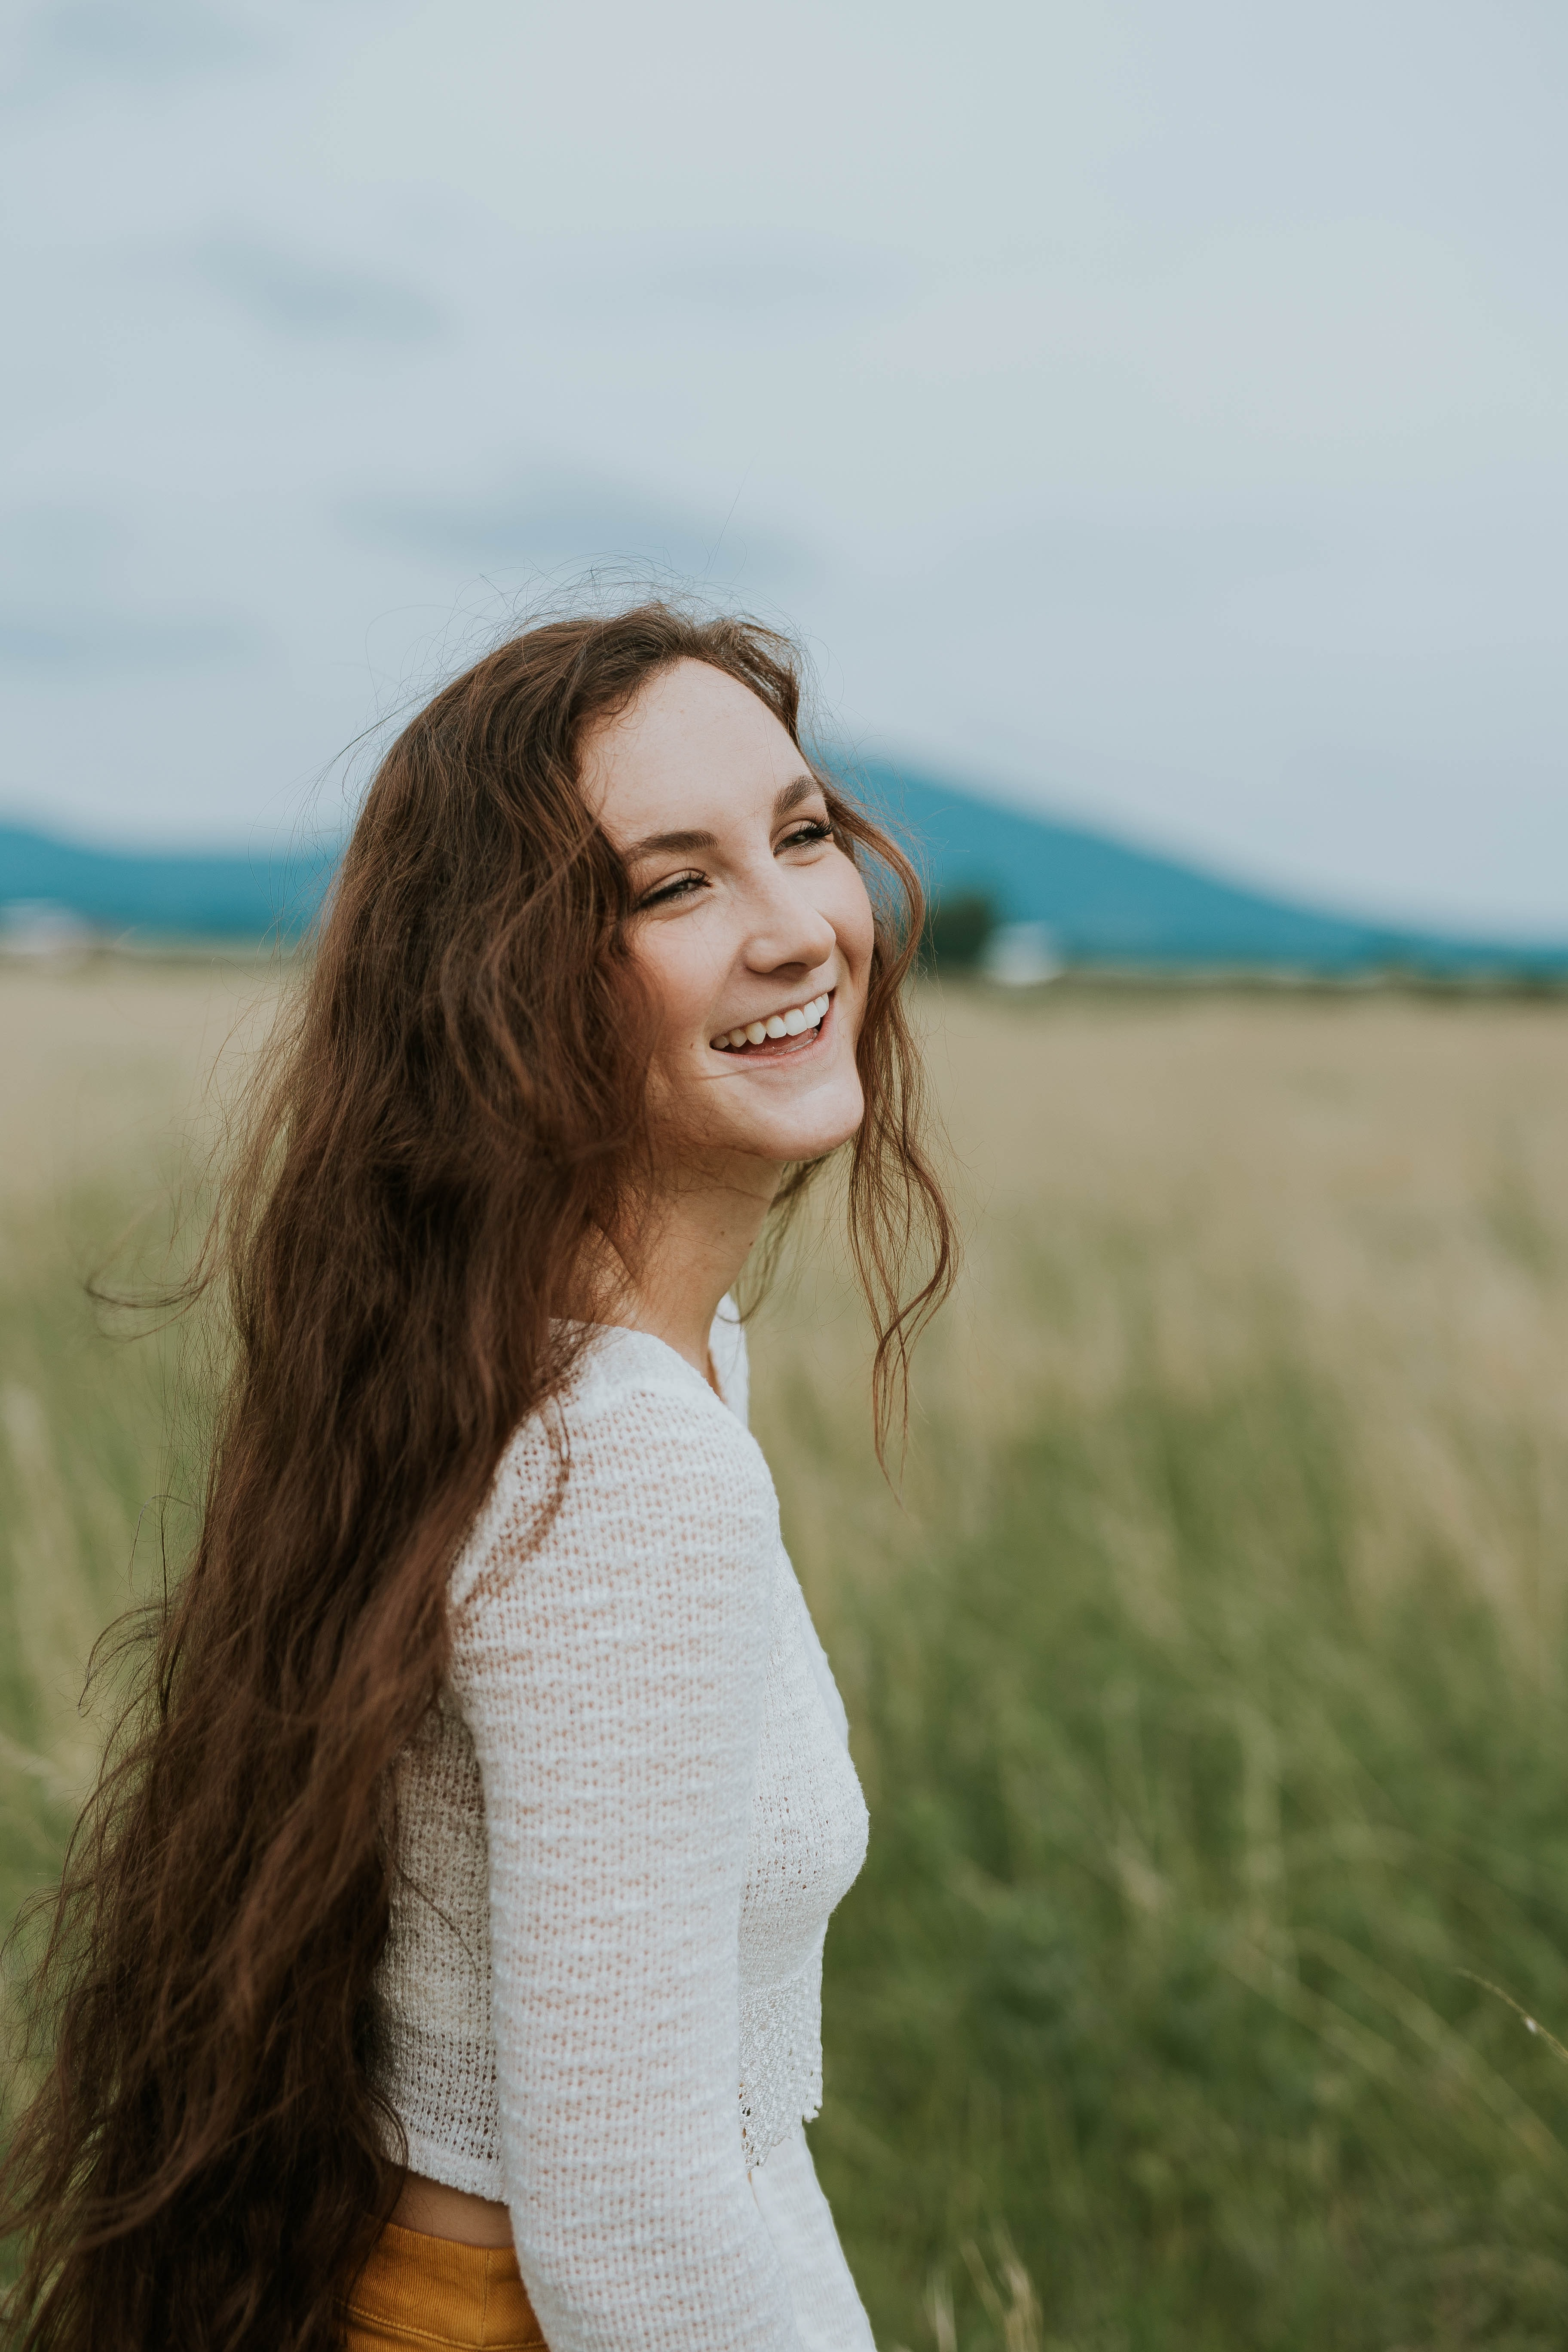face: (319, 600, 938, 1207)
